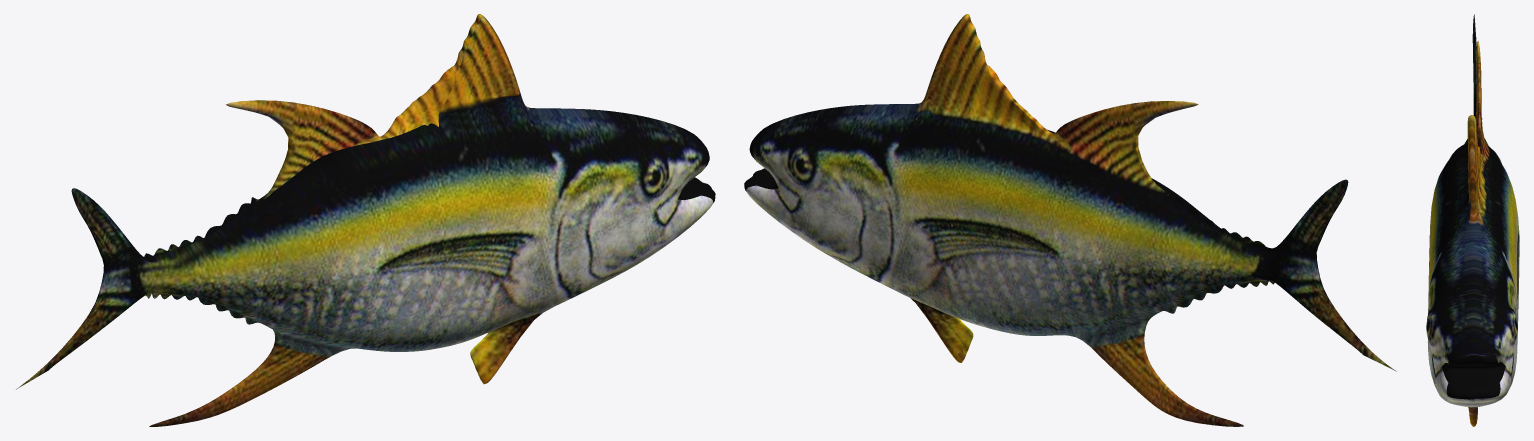
The model's file is tuna_fish.obj.
3 views of the same model, side by side, from view 1: azimuth 30°, elevation 25°; view 2: azimuth 150°, elevation 25°; view 3: azimuth 270°, elevation 25° (orthographic). The views are drawn at different scales.
Parts seen in each view (by area): view 1: tuna; view 2: tuna; view 3: tuna.
Boxes of the visible parts, box(x1,y1,x2,y2) form: tuna: box(16, 14, 715, 426); tuna: box(744, 14, 1396, 426); tuna: box(1426, 14, 1519, 426).
Bounding box in the file's own units: 5.07 × 2.61 × 0.7132.
2 materials, 1 textured.
